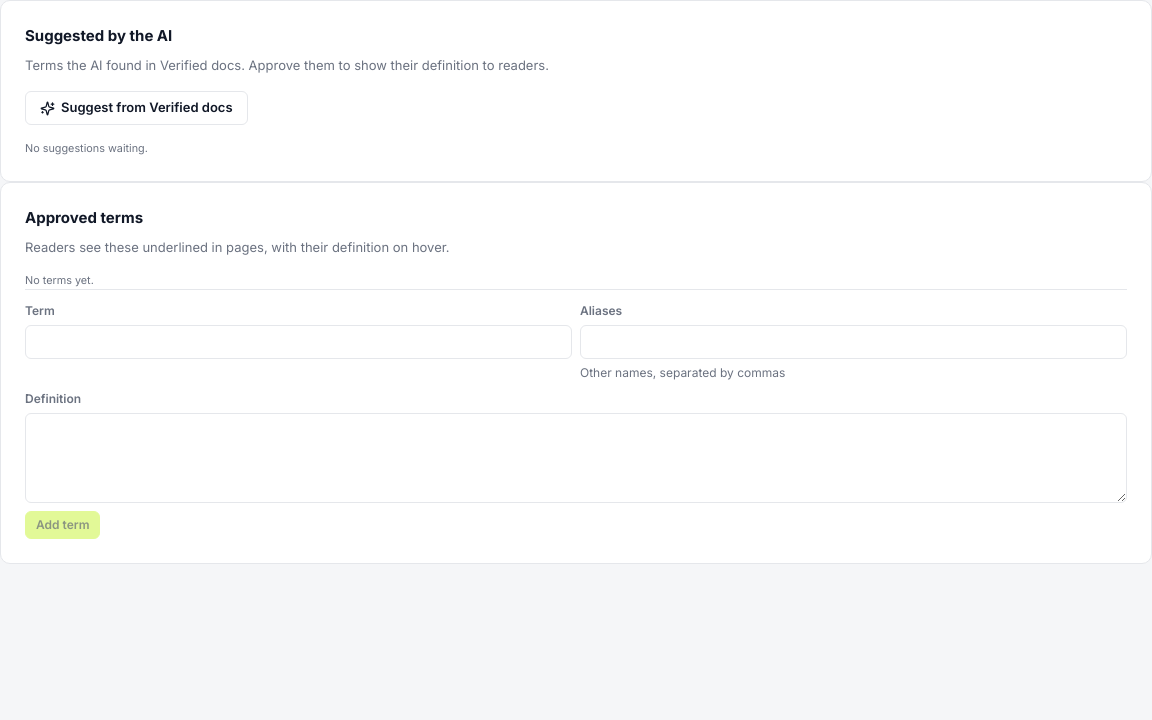
GlossaryAdmin › shows the API error when suggesting fails
Click the button "Suggest from Verified docs" at (136, 108), box [25,91,248,125]
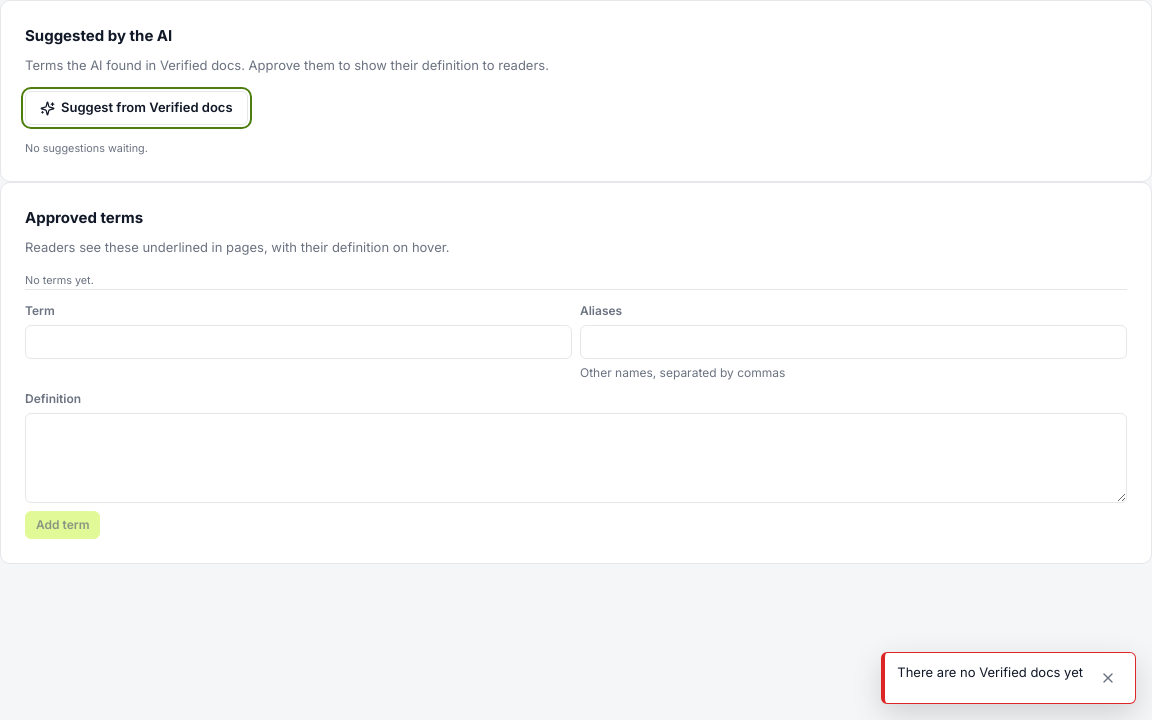
expect the text "There are no Verified docs yet" is shown: met, box [897,663,1083,682]
